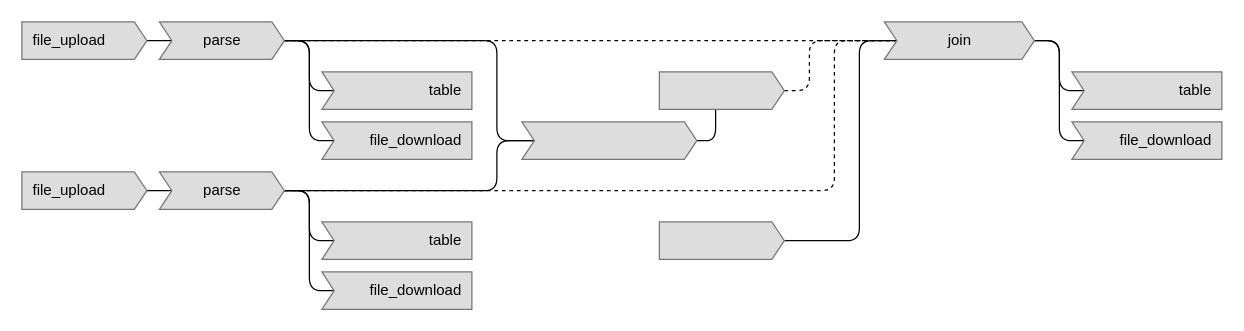
This 1244x331 diagram has some shape labels left out. Each missing label, with the centre of its shape:
button_join: point 721,240
column_join: point 721,90
columns_common: point 609,140
